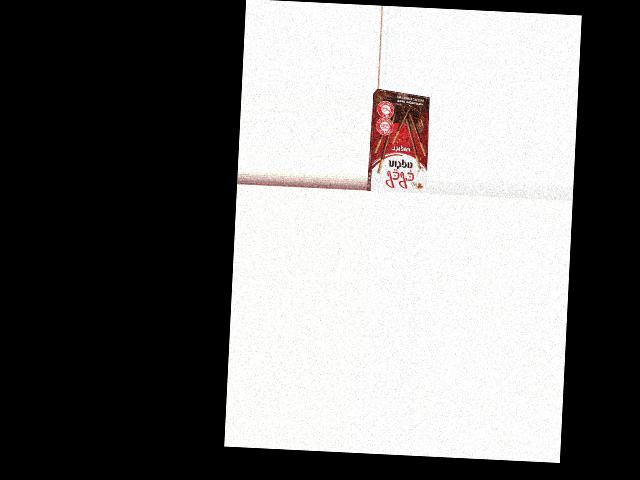chocolate: (367, 95, 431, 193)
